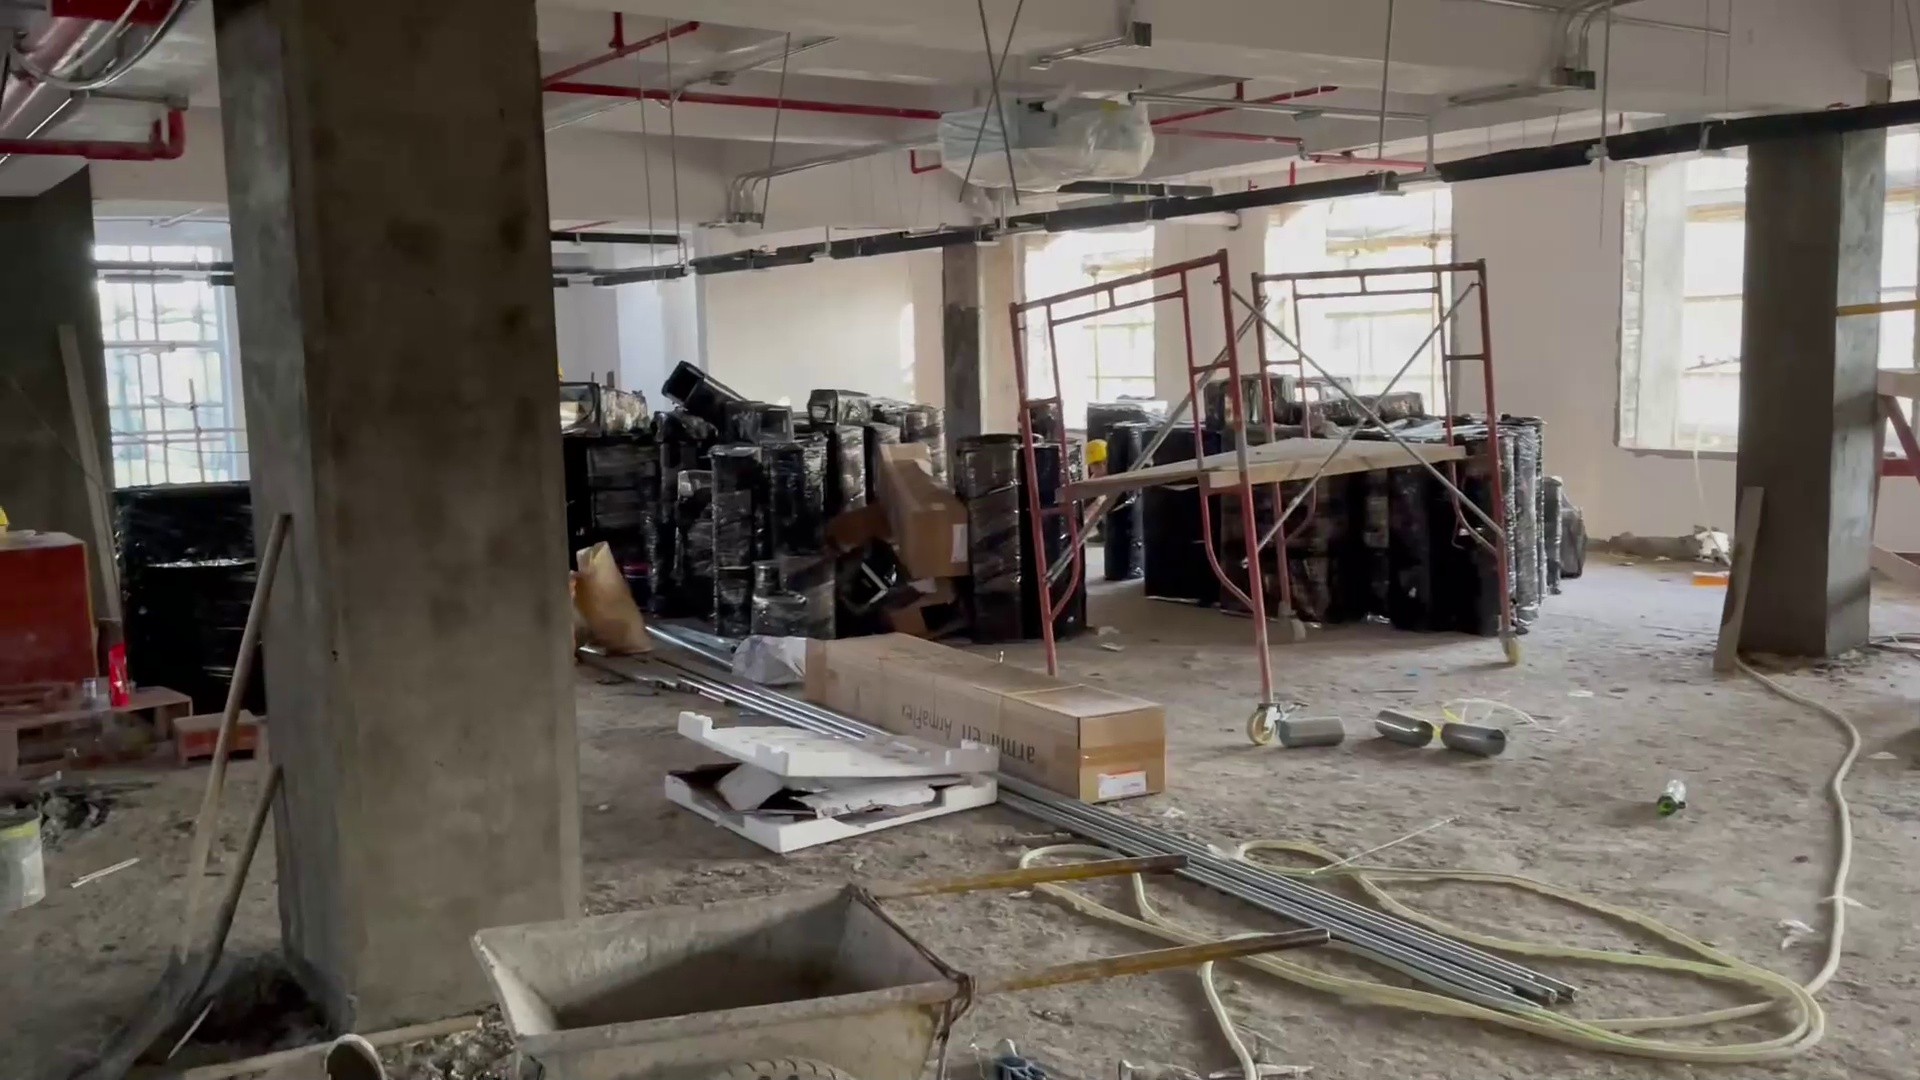helmet: (1084, 436, 1114, 465)
person: (1076, 434, 1118, 504)
